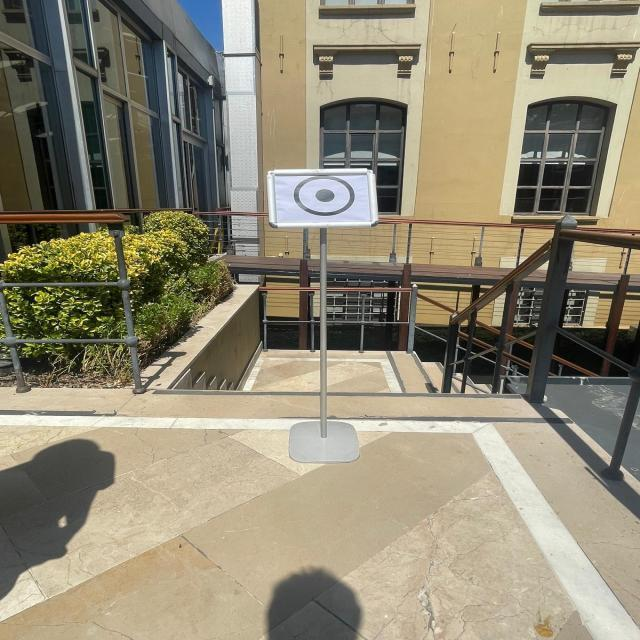Target: (249, 154, 399, 237)
inner: (312, 185, 336, 208)
